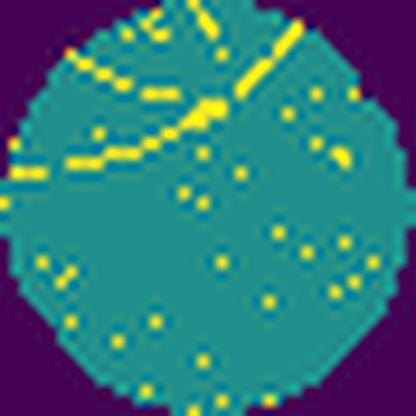Scratch: (62, 94, 232, 179), (65, 47, 183, 106), (231, 20, 306, 107)
